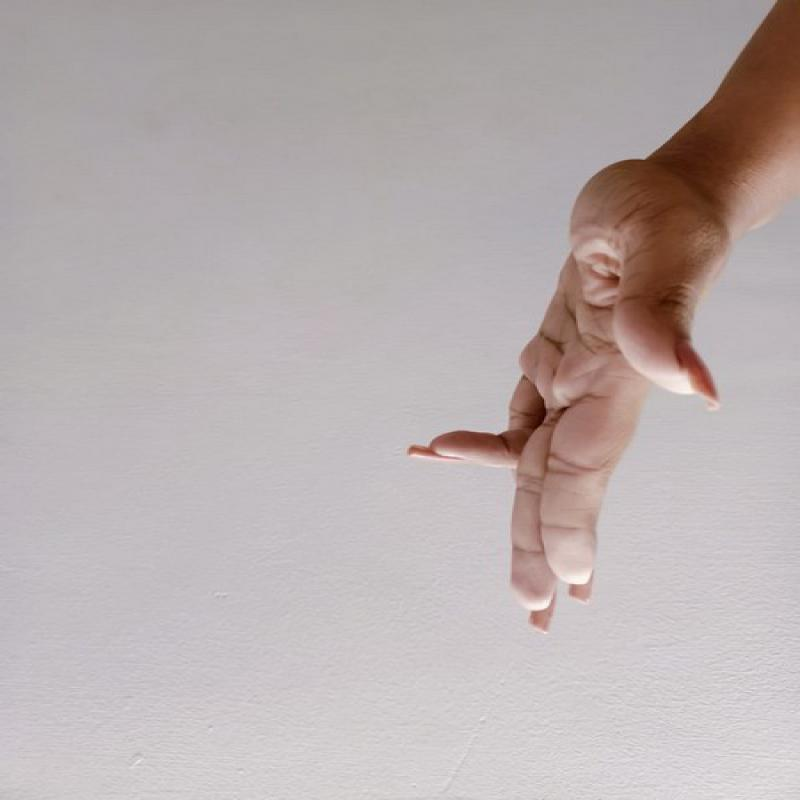Pathaaka: (389, 137, 740, 639)
